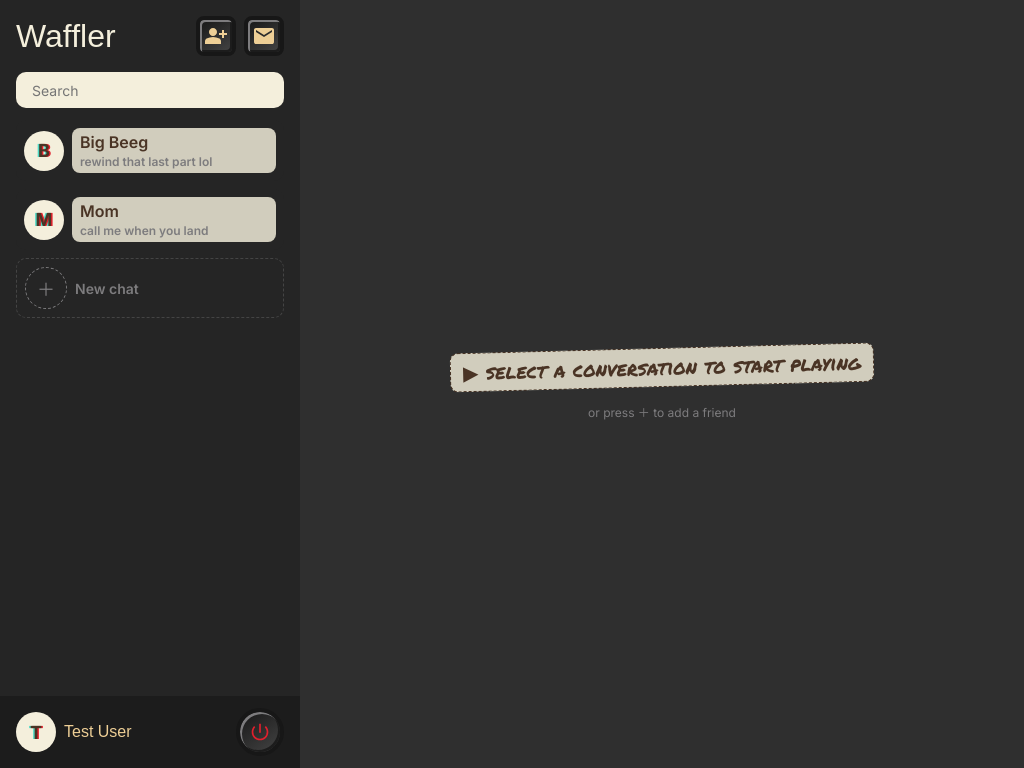
it: HomePage › chat management › opens chat info from the header settings icon and shows the participant list
What coordinates should you click on to do the following:
click the text "Big Beeg"
I would click on:
 (174, 150)
Its box is x1=72 y1=128 x2=276 y2=173.
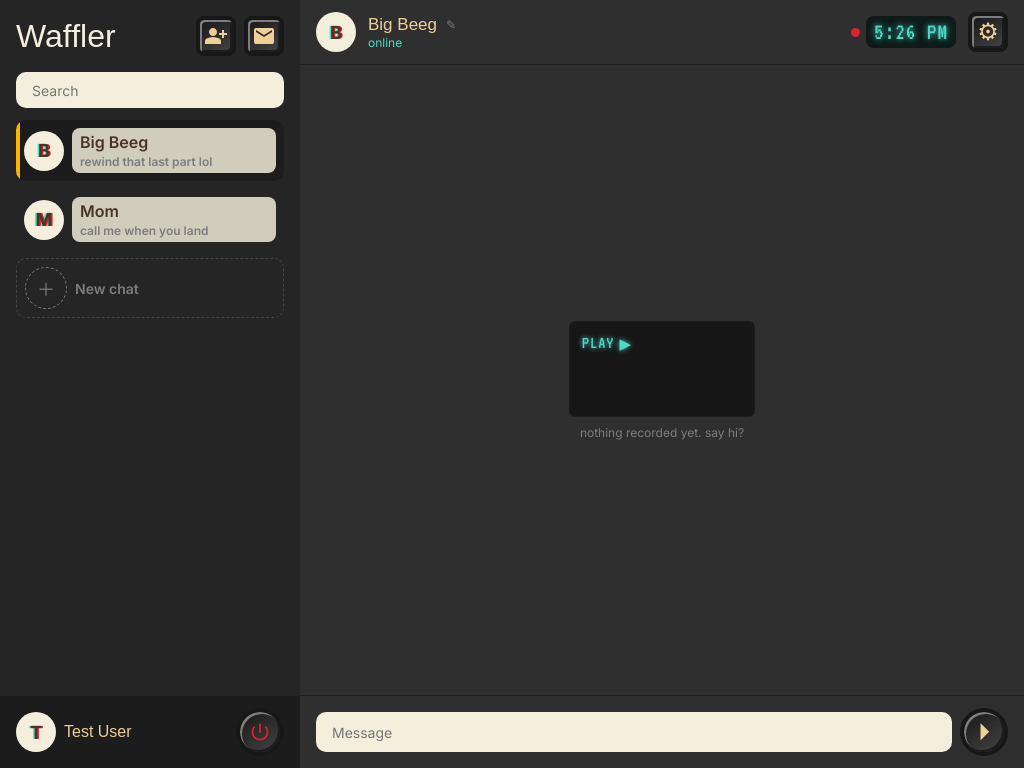
Now the field with placeholder "Message" is shown, box x1=316 y1=712 x2=952 y2=752
What coordinates should you click on to do the following:
click the button named "Chat info"
I would click on:
 (988, 32)
Its box is x1=968 y1=12 x2=1008 y2=52.
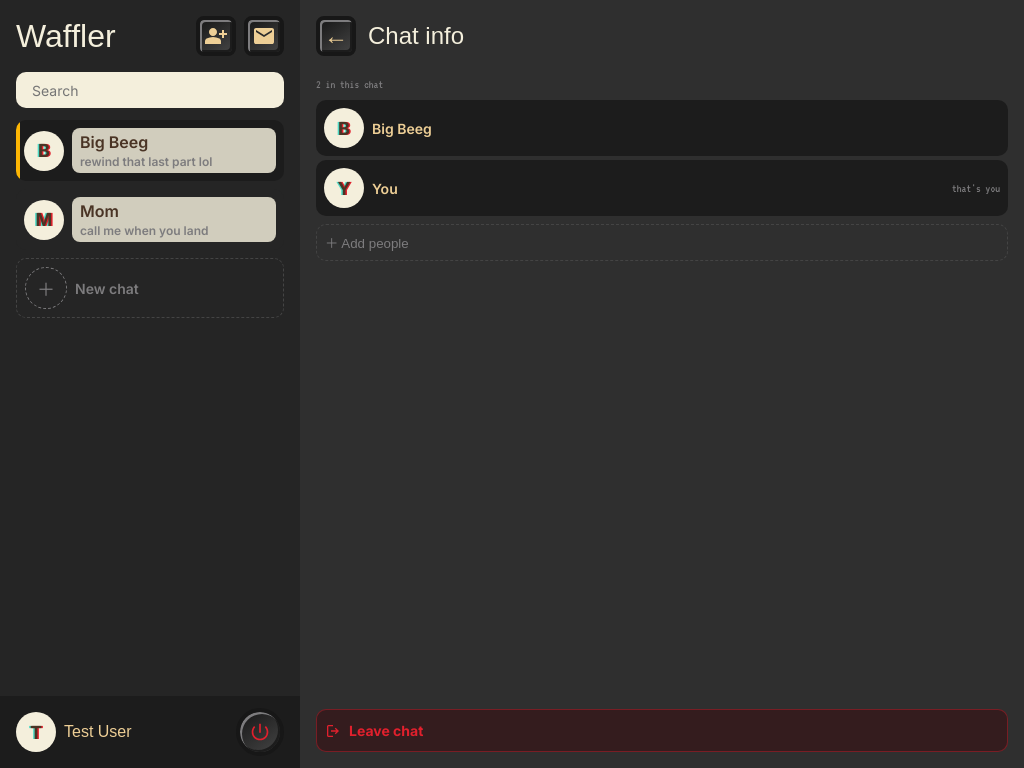
Now the text "Chat info" is shown, box x1=368 y1=22 x2=464 y2=50
Now the button "Leave chat" is shown, box x1=316 y1=709 x2=1008 y2=752
Now the text "that's you" is shown, box x1=952 y1=182 x2=1000 y2=194
